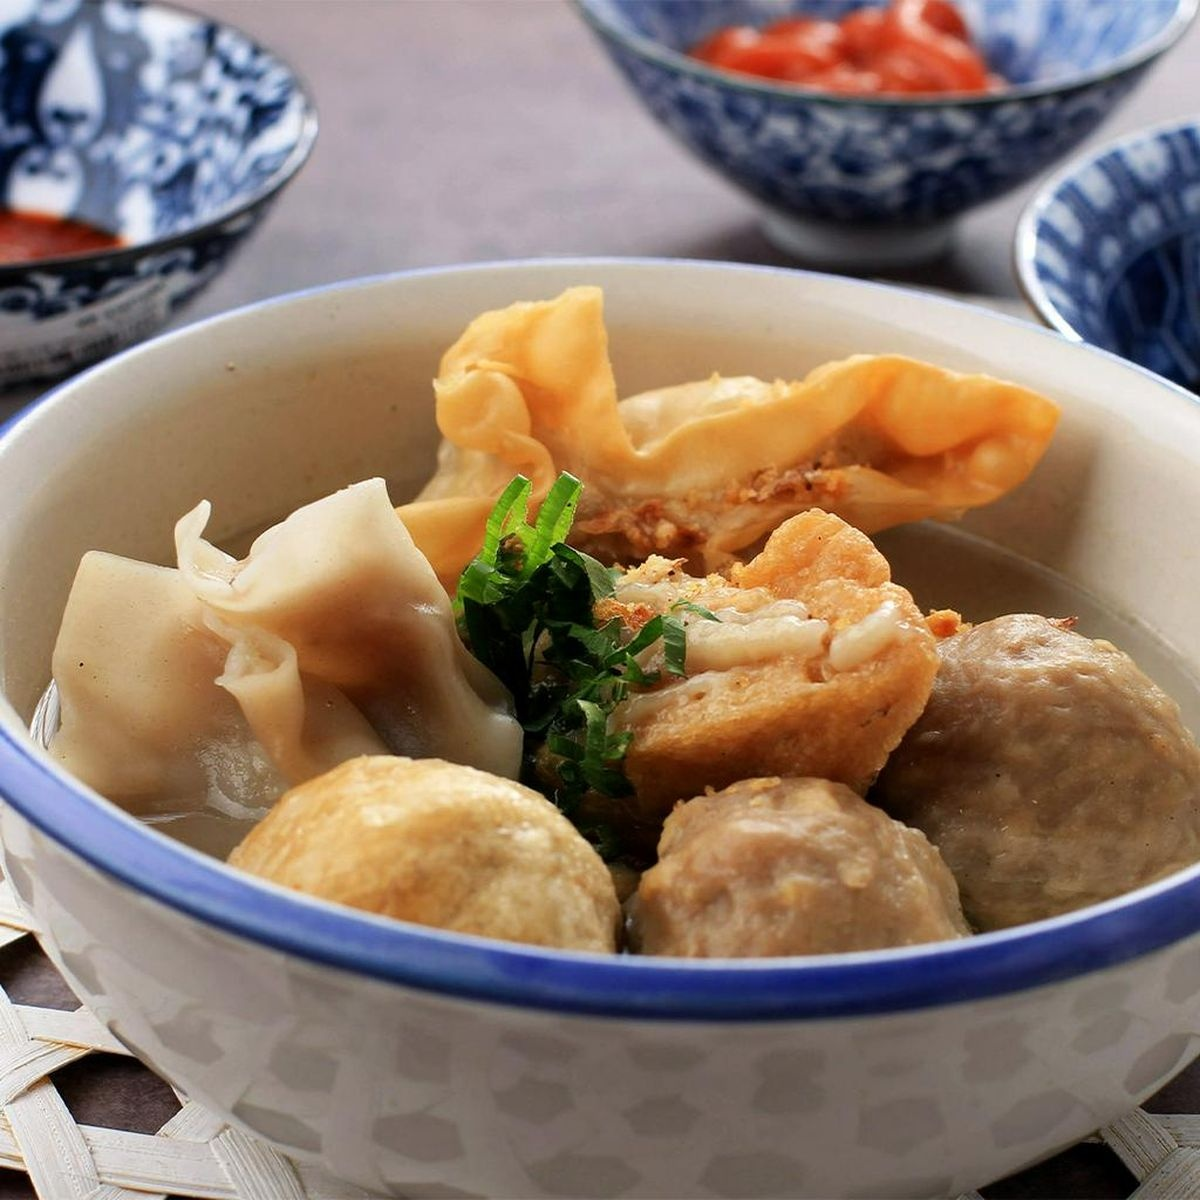bakso_malang: (38, 284, 1200, 969)
